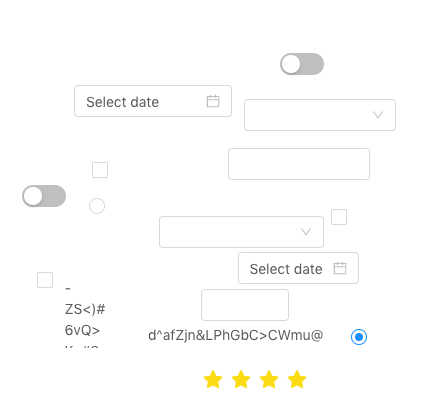Checkbox: (37, 269, 53, 290), (331, 206, 347, 227), (92, 159, 108, 180)
DatePicker: (74, 85, 232, 117), (238, 252, 359, 284)
Input: (228, 148, 370, 180), (201, 289, 289, 321)
Radio: (89, 195, 105, 215), (351, 326, 367, 346)
Rate: (203, 363, 323, 395)
Select: (159, 216, 324, 248), (244, 99, 396, 131)
Switch: (22, 184, 66, 208), (280, 52, 324, 76)
Text: (148, 324, 324, 349), (65, 277, 108, 348)
